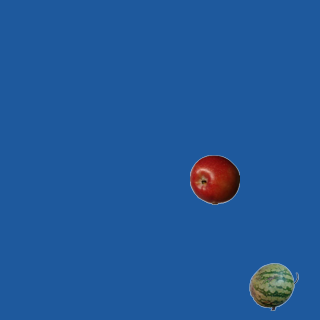Apple Braeburn: (189, 154, 239, 204)
Watermelon: (248, 261, 298, 311)
